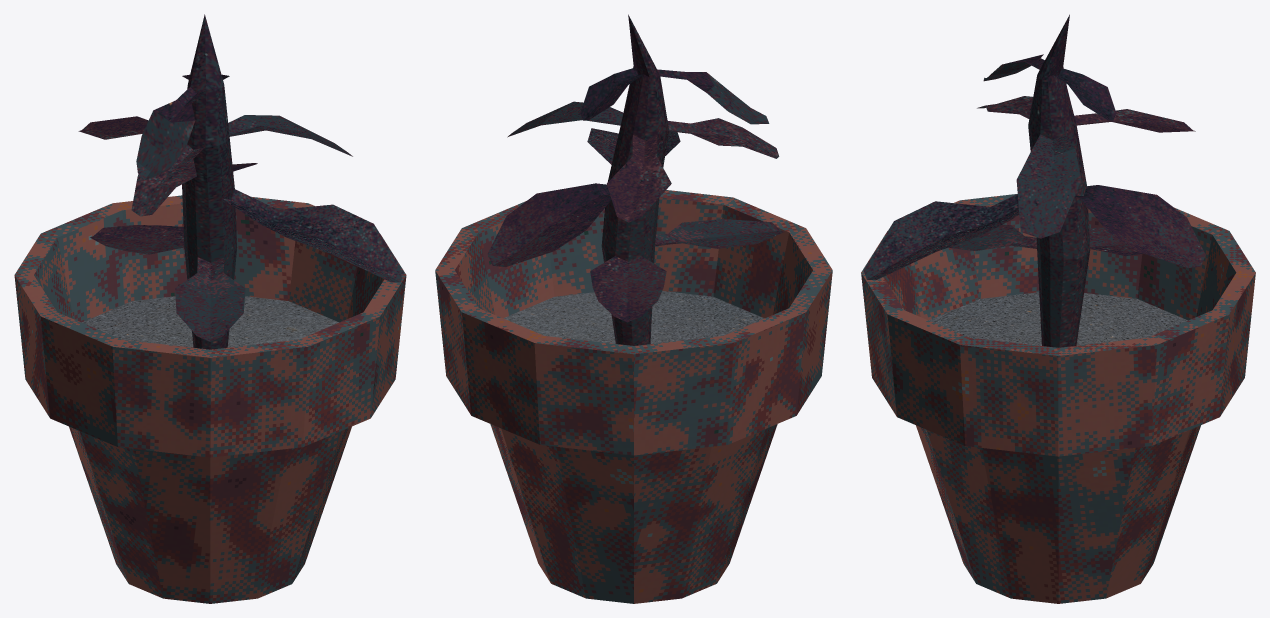
File: potted_plant.glb
The picture shows the model from 3 angles, left to right: view 1: azimuth 30°, elevation 25°; view 2: azimuth 150°, elevation 25°; view 3: azimuth 270°, elevation 25°; orthographic projection.
Parts seen in each view (by area): view 1: Circle; view 2: Circle; view 3: Circle.
Part boxes in pixels (left/top/right/bottom): Circle: left=14, top=14, right=406, bottom=603; Circle: left=435, top=14, right=832, bottom=603; Circle: left=861, top=14, right=1255, bottom=603.
Size of the model in its own units: 0.4658 by 0.7157 by 0.4658.
Materials: 3 (3 with a texture image).
